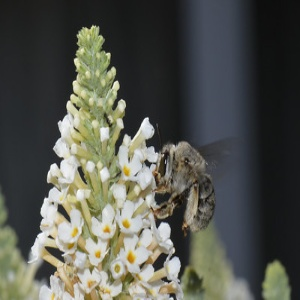bee: (157, 124, 220, 239)
